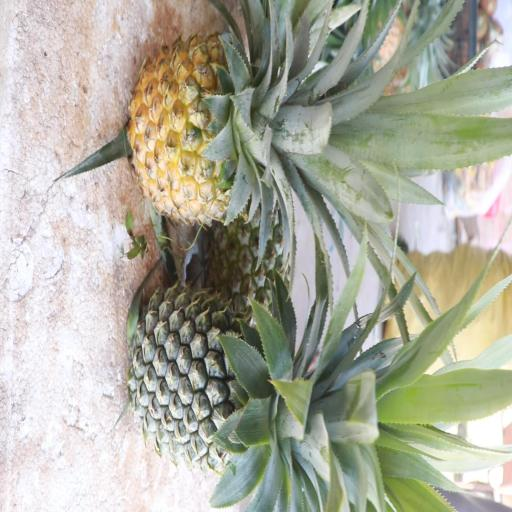Pineapple - v8 v1: (121, 23, 412, 236)
